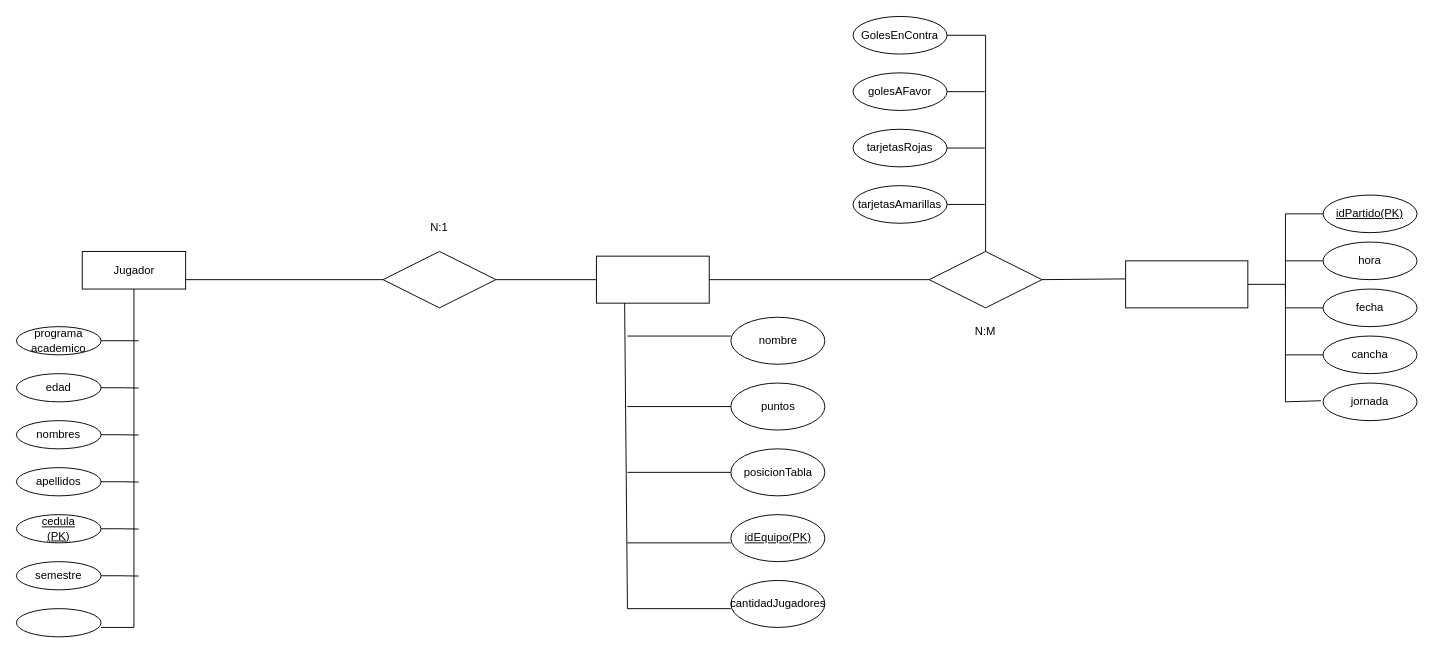
Image size: 1434x653. Some labels were removed from this diagram. The shapes that lost their labels are listed below. From the top down, each one's box as (x1, y1, x2, y2) in pixels, then its label:
(382, 251, 496, 308): Pertenece
(595, 255, 709, 303): Equipo
(928, 251, 1042, 308): Jugar
(1125, 260, 1248, 308): Partido
(16, 608, 101, 637): correo
